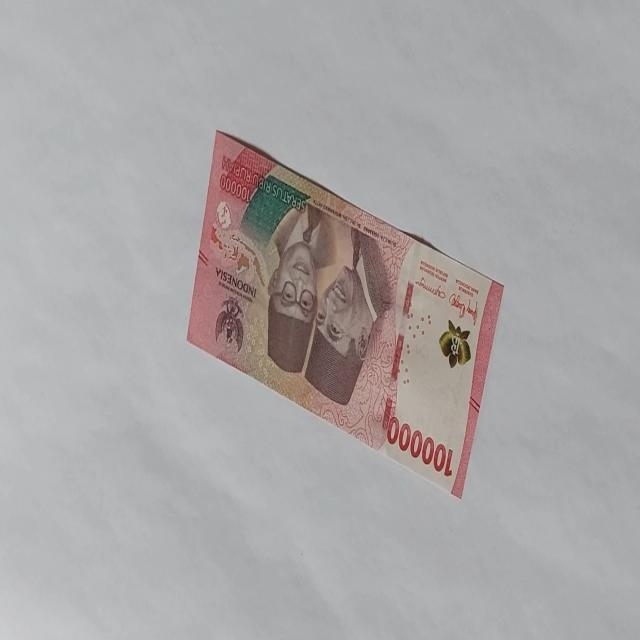seratus ribu rupiah: (186, 128, 504, 500)
